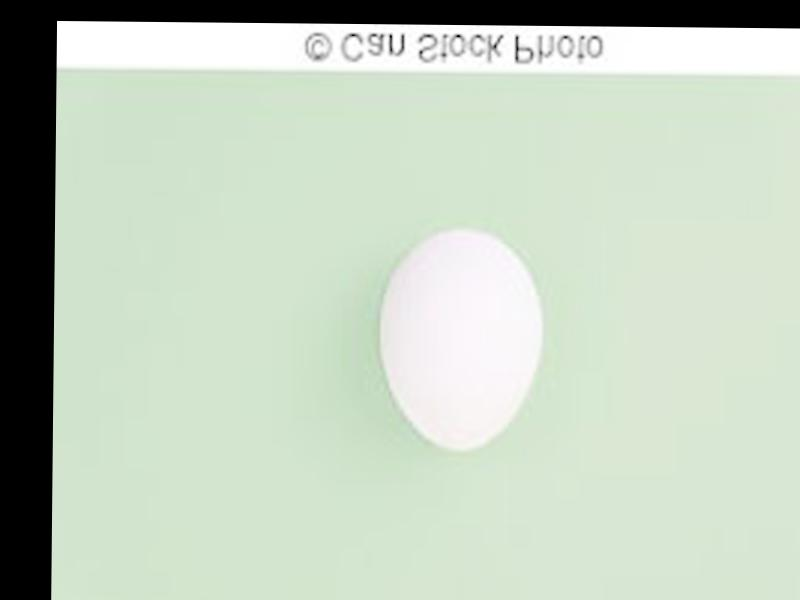Eggs: (379, 230, 540, 450)
